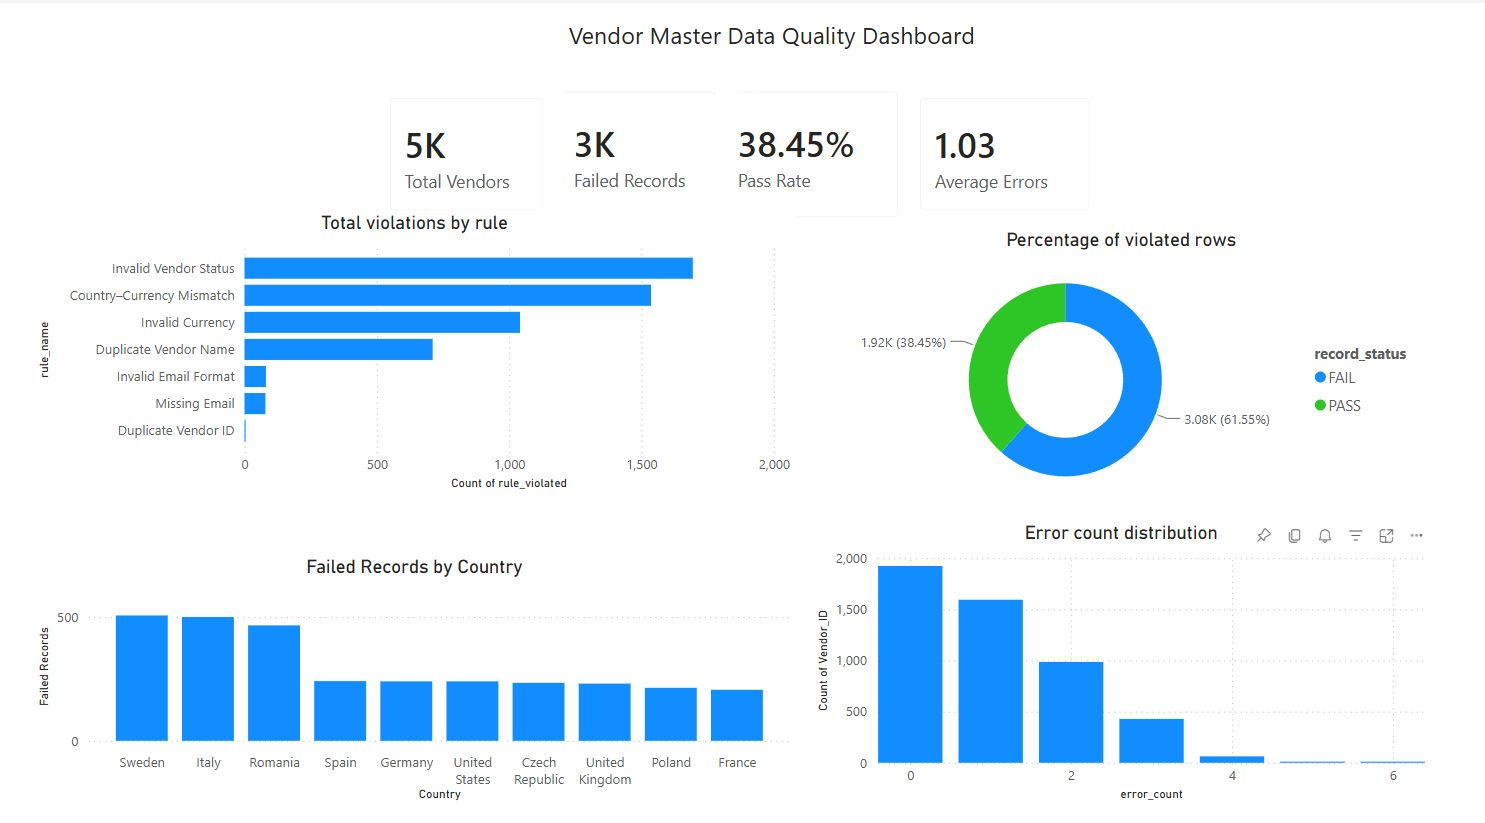

The page's visual inventory and layout, read from the dashboard file:
{"tool":"powerbi","page":{"name":"Strona 1","canvas":[1280,720],"ordinal":0},"visuals":[{"type":"textbox","box":[458.6,0,444.4,50.4],"z":0},{"type":"cardVisual","fields":{"Data":["Vendors.Pass Rate"]},"box":[619.5,54,193.9,148.1],"z":1000},{"type":"cardVisual","fields":{"Data":["Vendors.Failed Records"]},"box":[471.4,54,176.5,148.1],"z":2000},{"type":"cardVisual","fields":{"Data":["Vendors.Total Vendors"]},"box":[316.9,60.3,173.4,135.5],"z":3000},{"type":"cardVisual","fields":{"Data":["Vendors.Average Errors"]},"box":[799.2,60.3,187.5,135.5],"z":4000},{"type":"clusteredColumnChart","fields":{"Category":["Vendors.Country"],"Y":["Vendors.Failed Records"]},"box":[9.5,493.3,693.4,226.9],"z":5000},{"type":"donutChart","title":"Percentage of violated rows","fields":{"Y":["CountNonNull(Vendors.record_status)"],"Category":["Vendors.record_status"]},"box":[717.1,195.4,562.6,256.9],"z":6000},{"type":"clusteredBarChart","title":"Total violations by rule","fields":{"Category":["tbl_rules.rule_name"],"Y":["CountNonNull(Vendors_Errors.rule_violated)"]},"box":[9.5,179.7,693.4,256.9],"z":7000},{"type":"clusteredColumnChart","title":"Error count distribution","fields":{"Category":["Vendors.error_count"],"Y":["CountNonNull(Vendors.Vendor_ID)"]},"box":[717.1,461.8,562.6,258.5],"z":8000}]}

Visuals, with their boxes in screenshot pixels (x1, y1, x2, y2), scaled from the page's 1280x720 canvas onto the 1485x823 screenshot:
textbox: (532, 0, 1048, 58)
cardVisual - Vendors.Pass Rate: (719, 62, 944, 231)
cardVisual - Vendors.Failed Records: (547, 62, 752, 231)
cardVisual - Vendors.Total Vendors: (368, 69, 569, 224)
cardVisual - Vendors.Average Errors: (927, 69, 1145, 224)
clusteredColumnChart - Vendors.Country x Vendors.Failed Records: (11, 564, 815, 822)
"Percentage of violated rows" donutChart: (832, 223, 1484, 517)
"Total violations by rule" clusteredBarChart: (11, 205, 815, 499)
"Error count distribution" clusteredColumnChart: (832, 528, 1484, 822)
